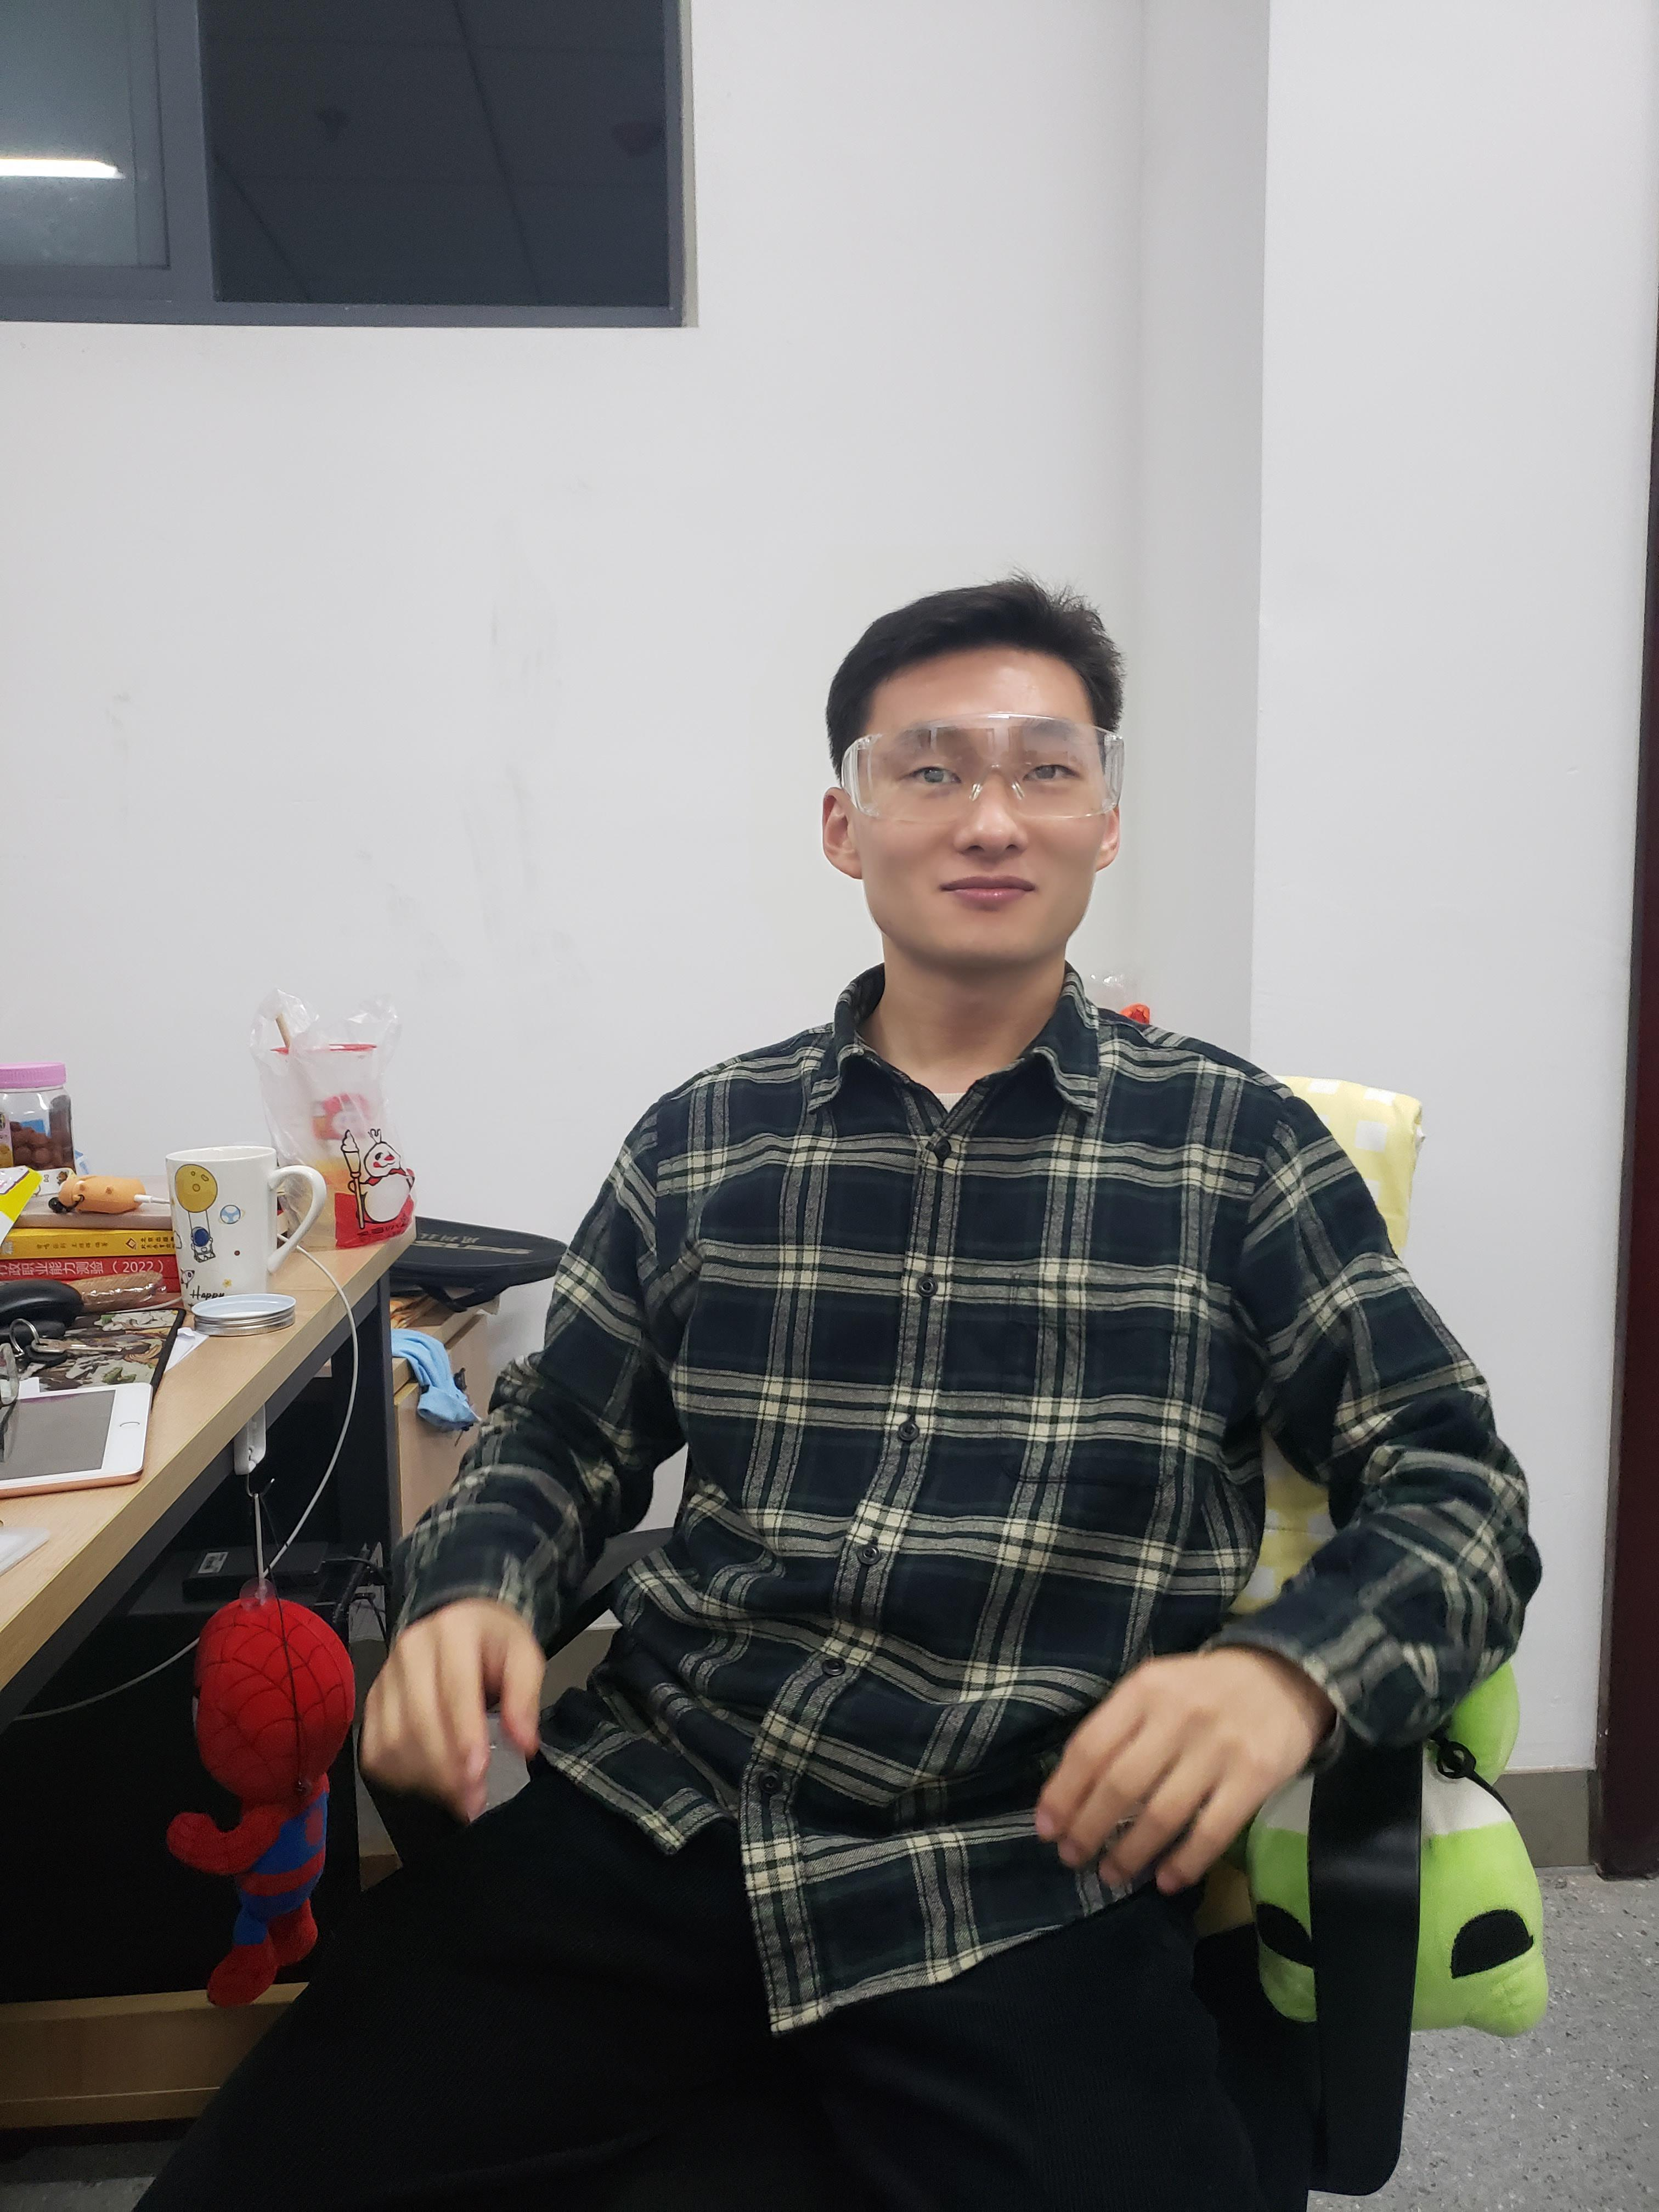glasses: (831, 718, 1122, 833)
